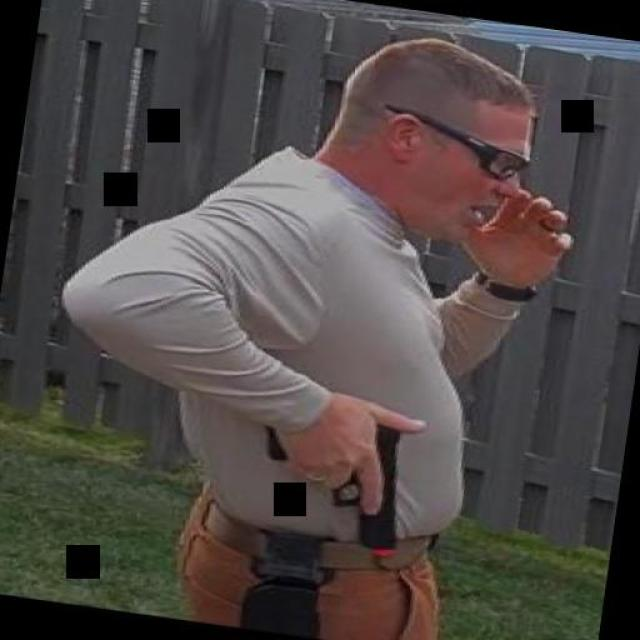gun: (244, 390, 420, 559)
